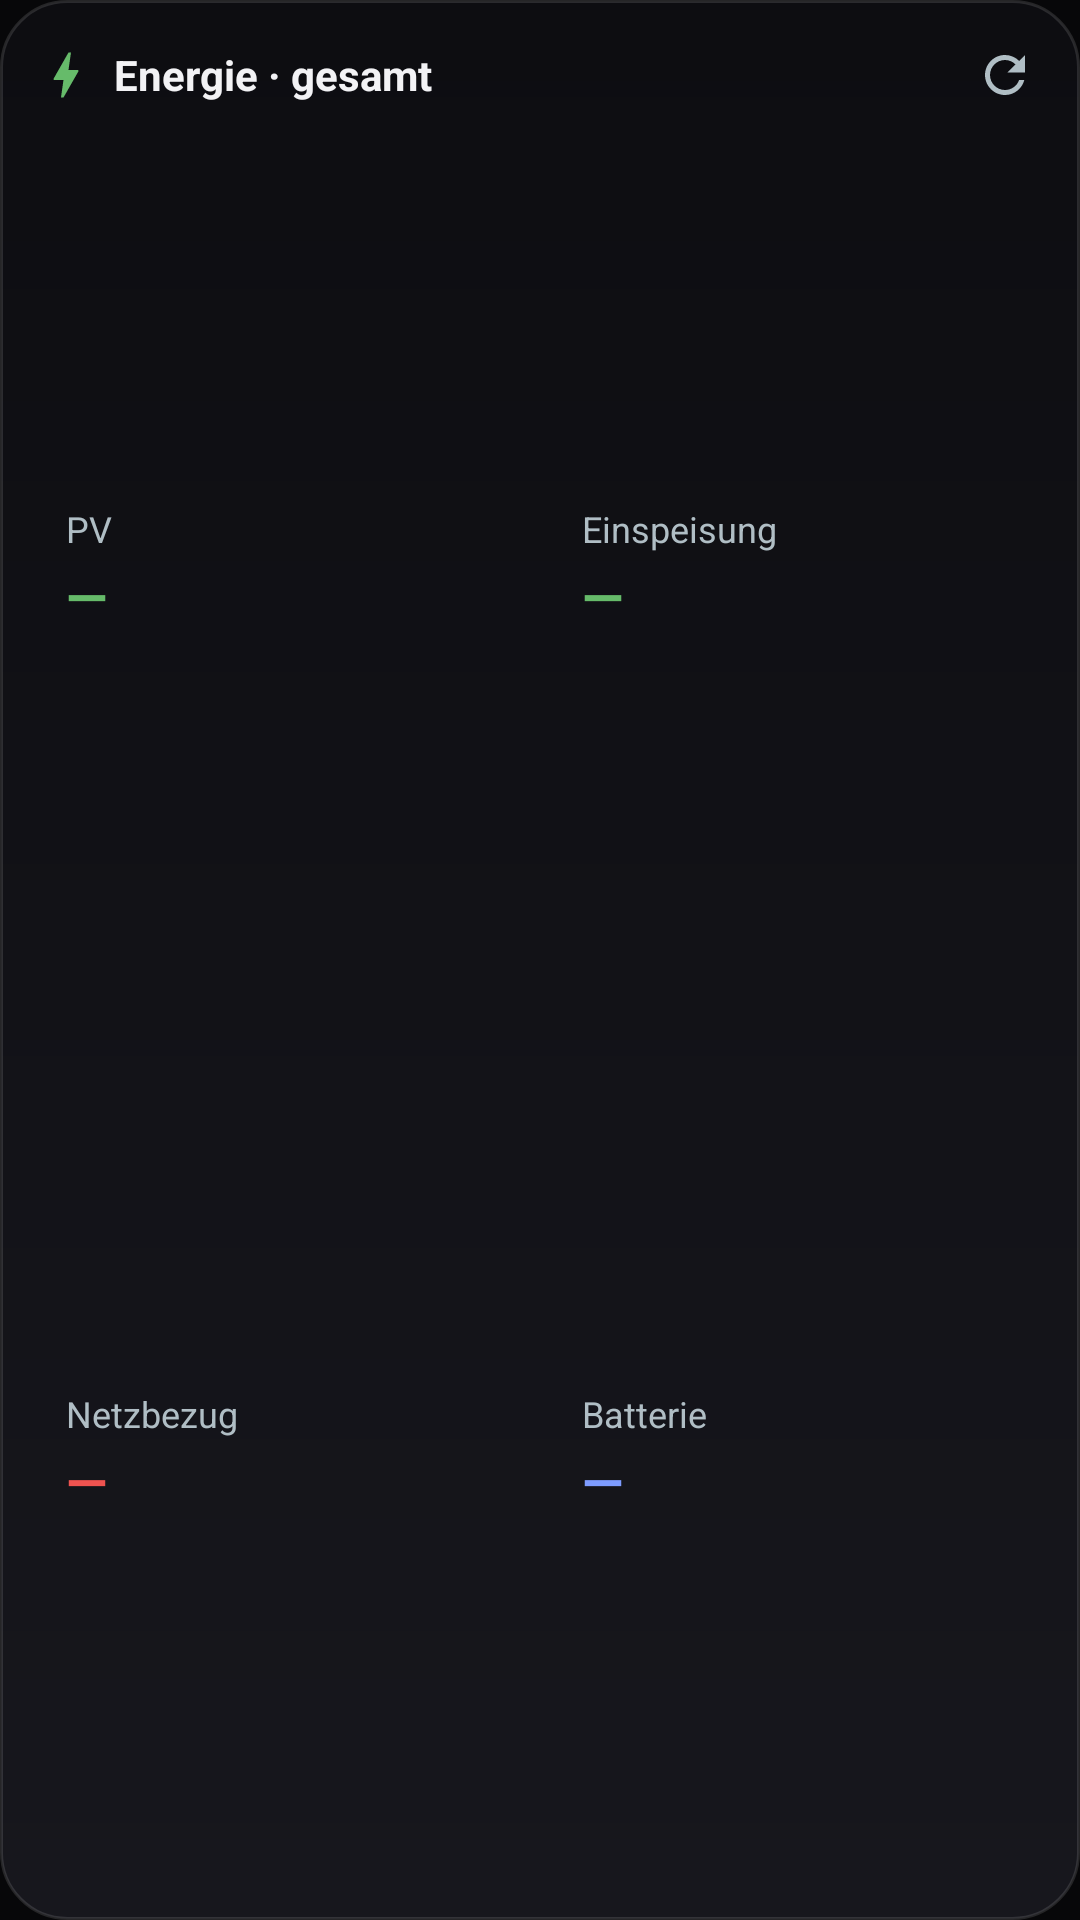

Named icons in this screenshot (1080px x 1920px) and their bounding boxes, bbox(x1, y1, x2, y2):
Aktualisieren: bbox(985, 55, 1025, 95)
bolt: bbox(53, 52, 79, 98)
